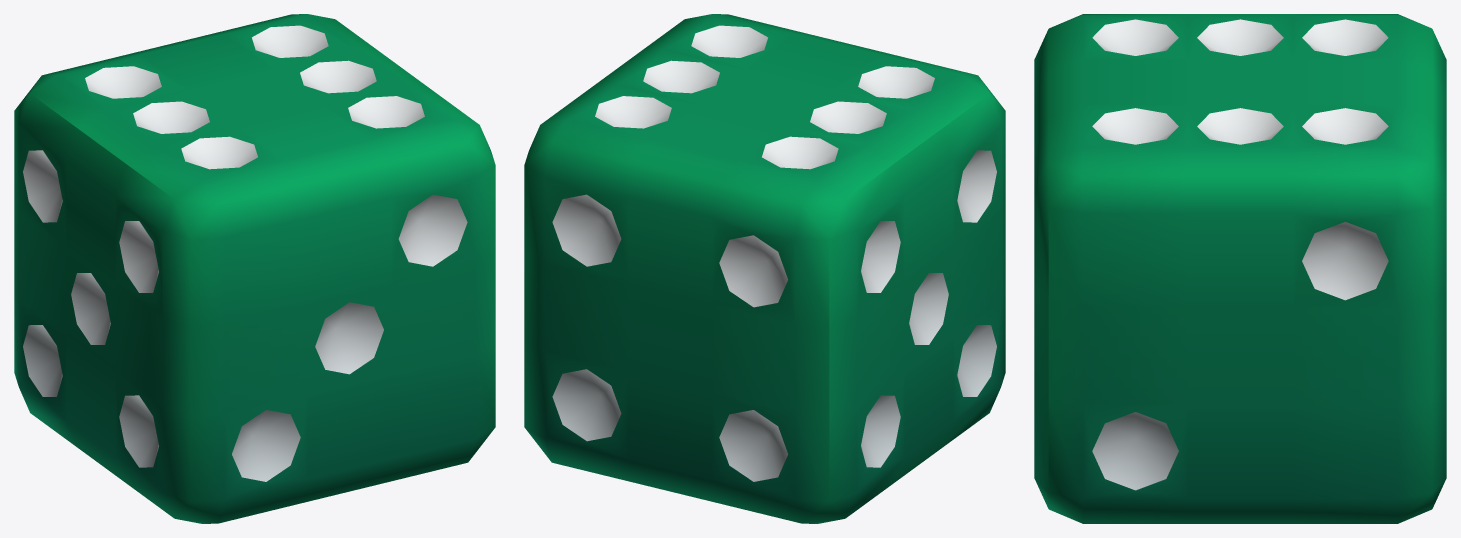
File: d6-a-green.glb
3 renders of one model, left to right at view 1: azimuth 30°, elevation 25°; view 2: azimuth 150°, elevation 25°; view 3: azimuth 270°, elevation 25°, orthographic. The views are drawn at different scales.
Parts seen in each view (by area): view 1: D6_A_green; view 2: D6_A_green; view 3: D6_A_green.
Boxes of the visible parts, box(x1,y1,x2,y2) form: D6_A_green: box(14, 14, 495, 523); D6_A_green: box(524, 14, 1005, 523); D6_A_green: box(1034, 14, 1446, 523).
Size of the model in its own units: 0.75 by 0.75 by 0.75.
Materials: 1 (1 with a texture image).
